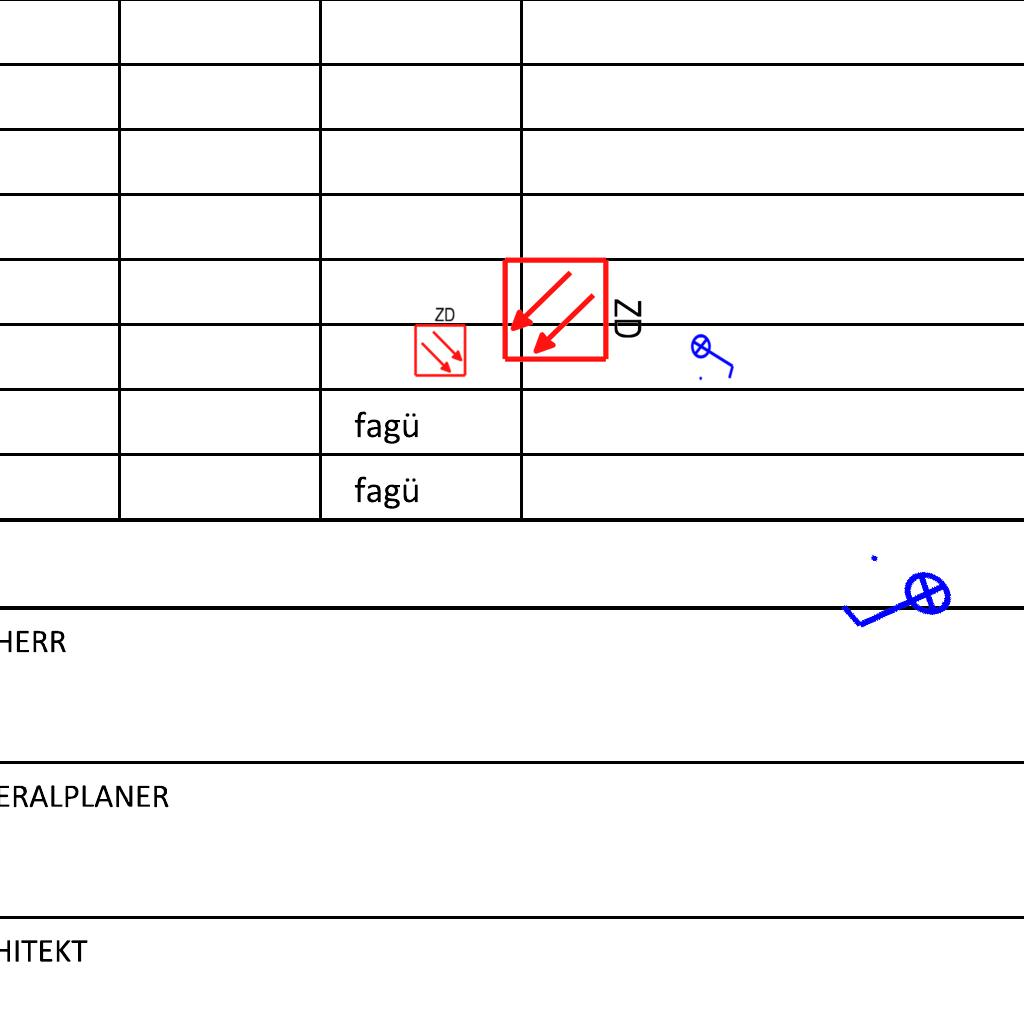Ausschalter_beleuchtet: (825, 535, 973, 677), (690, 327, 738, 383)
ZD_Melder_in_Zwischendecke_mit_Revisionsoeffnung_mind_40_x_40_cm: (500, 251, 649, 365), (411, 304, 468, 378)
